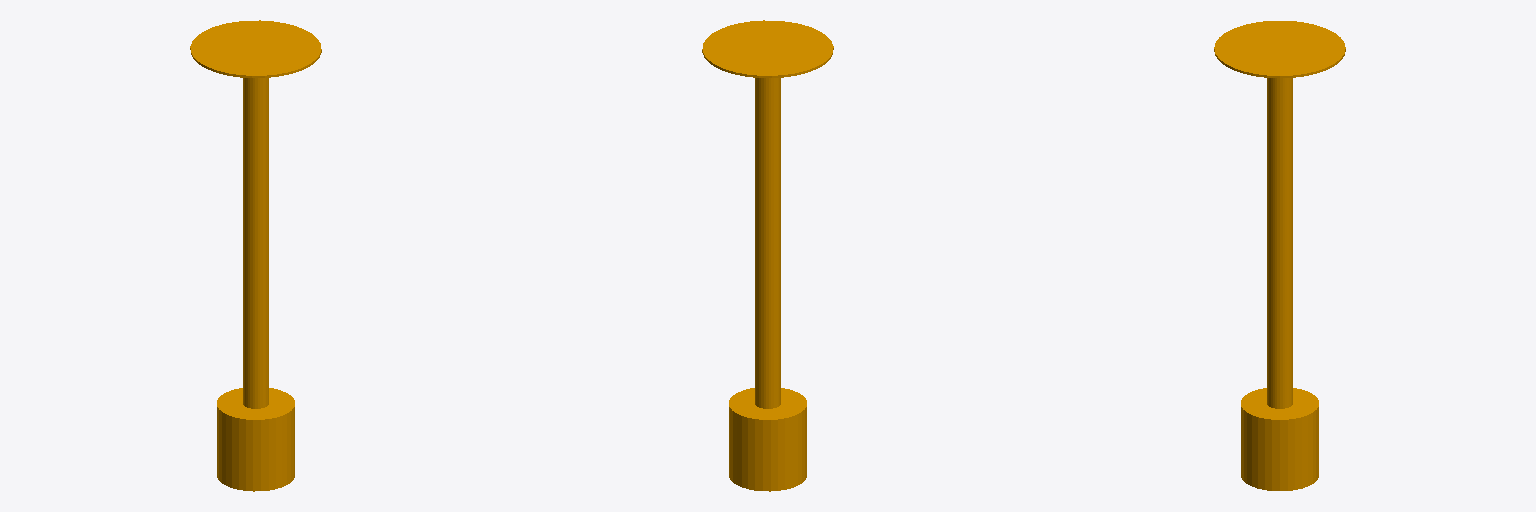
robot.urdf — simple_object:
<robot name="simple_object">
  <link name="my_object">
    <inertial>
      <origin xyz="0 0 0" />
      <mass value="1.0" />
      <inertia  ixx="0.00016" ixy="0.0"  ixz="0.0"  iyy="0.00016"  iyz="0.0"  izz="0.00016" />
    </inertial>
    <visual>
      <origin xyz="0 0 0"/>
      <geometry>
        <mesh filename="package://affordance_experiment/models/umbrella.dae" />
      </geometry>
    </visual>
    <collision>
      <origin xyz="0 0 0"/>
      <geometry>
        <mesh filename="package://affordance_experiment/models/umbrella.dae" />
      </geometry>
    </collision>
  </link>
  <gazebo reference="my_object">
    <material>Gazebo/Blue</material>
  </gazebo>
</robot>

--- Render facts (derived) ---
3 views of the same robot in one strip: view 1: azimuth 30°, elevation 25°; view 2: azimuth 150°, elevation 25°; view 3: azimuth 270°, elevation 25° (orthographic).
Robot: simple_object — 1 links, 0 joints (none); root link my_object; default pose: every joint at zero.
Visible links, largest first — view 1: my_object; view 2: my_object; view 3: my_object.
Boxes of the visible links, left/top/right/bottom form: my_object: left=190, top=20, right=321, bottom=491; my_object: left=702, top=20, right=833, bottom=491; my_object: left=1214, top=21, right=1345, bottom=490.
Bounding box of the posed robot: 0.05 × 0.05 × 0.179 m (x, y, z).
1 mesh visuals loaded from 1 distinct referenced files (1 Collada DAE).